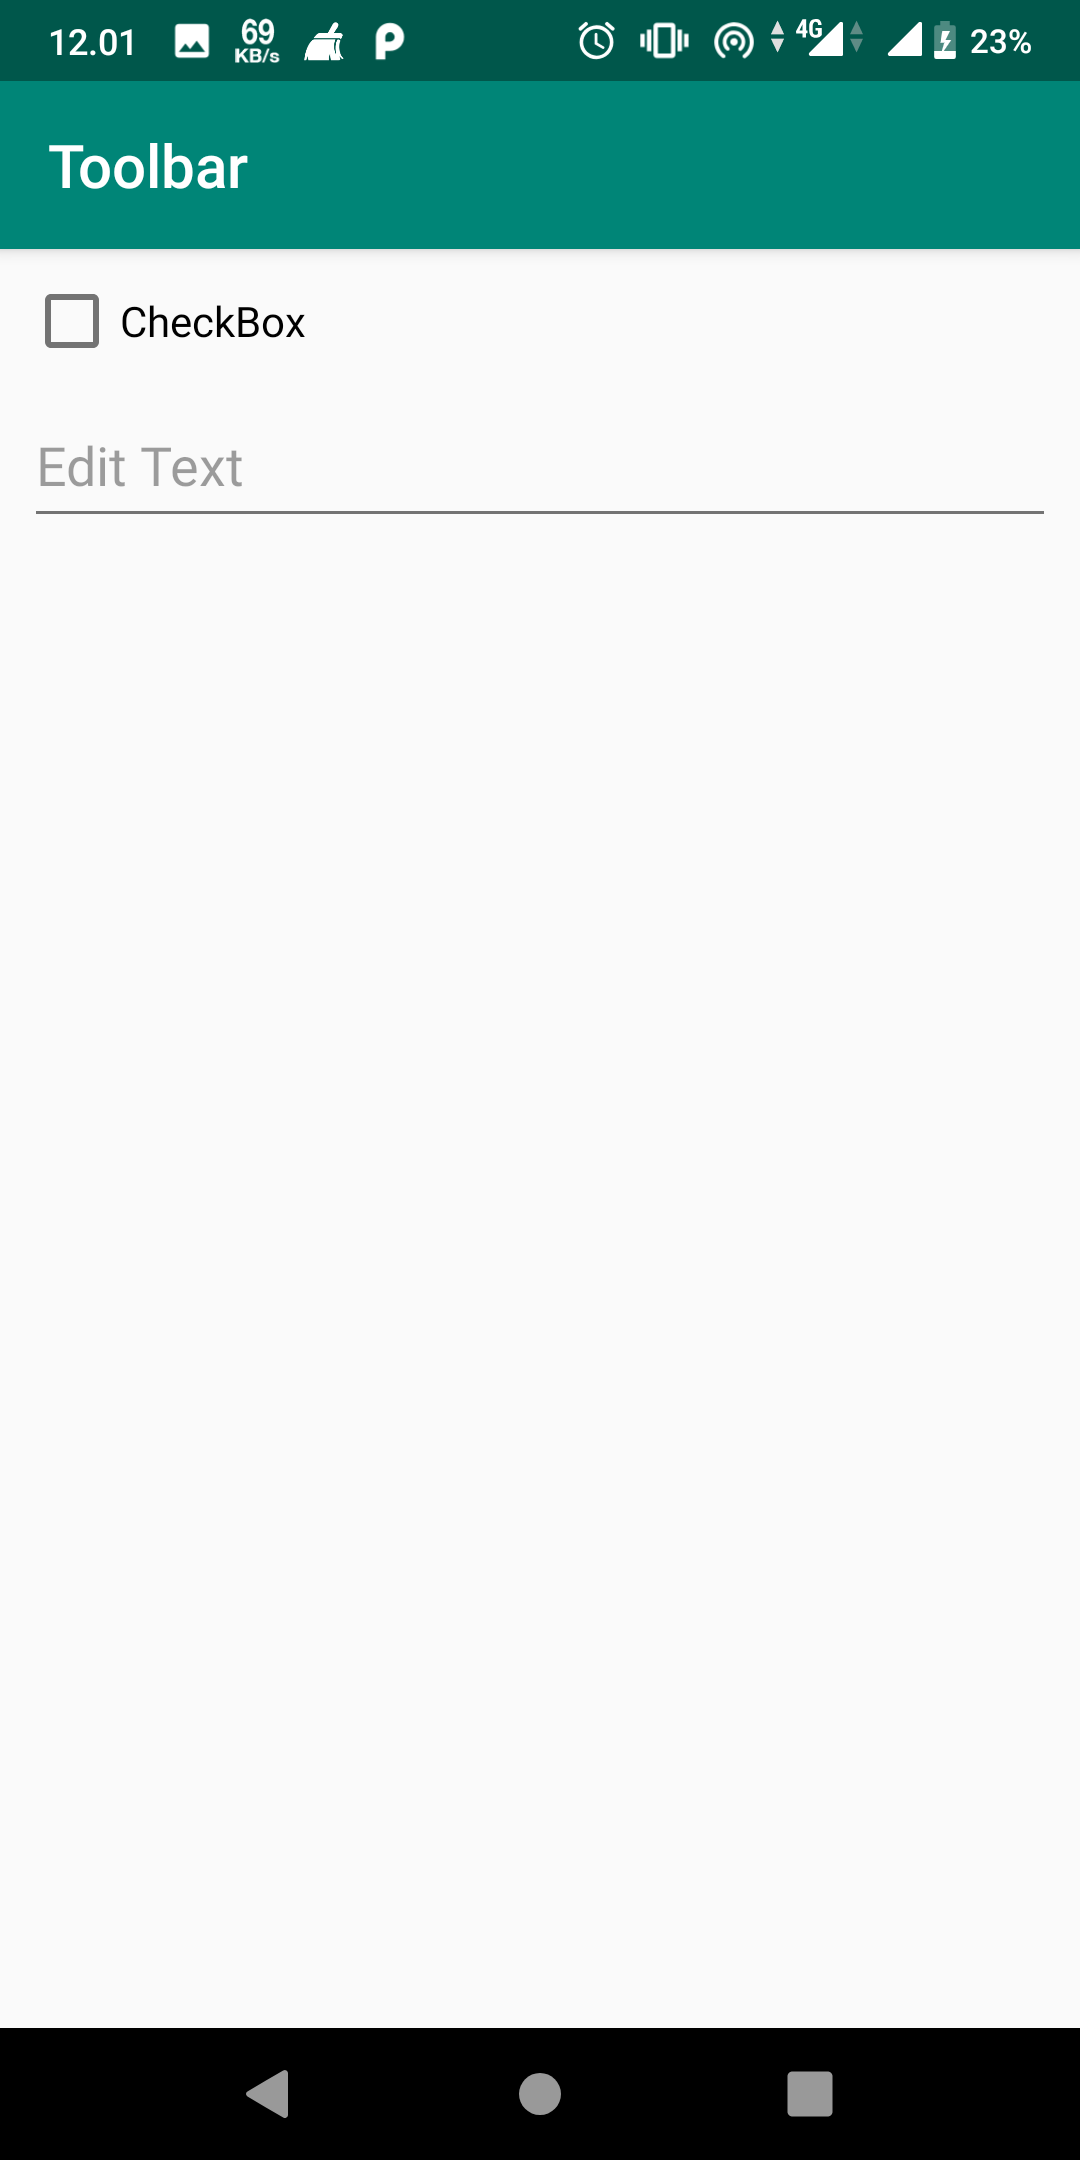checkBox: (39, 282, 306, 354)
editText: (28, 438, 1057, 530)
toolbar: (6, 83, 1080, 244)
